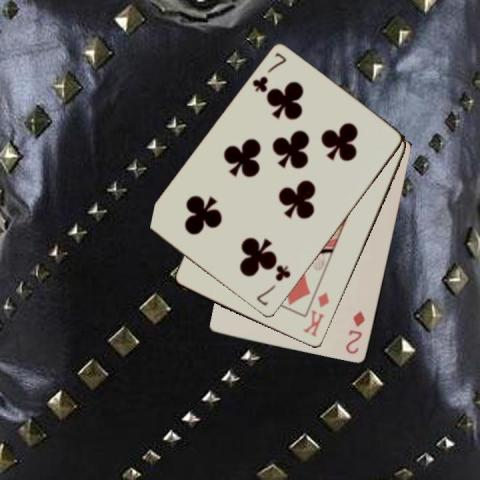2d: (342, 308, 366, 356)
7c: (253, 263, 293, 308), (249, 50, 288, 95)
Kd: (299, 289, 331, 339)
